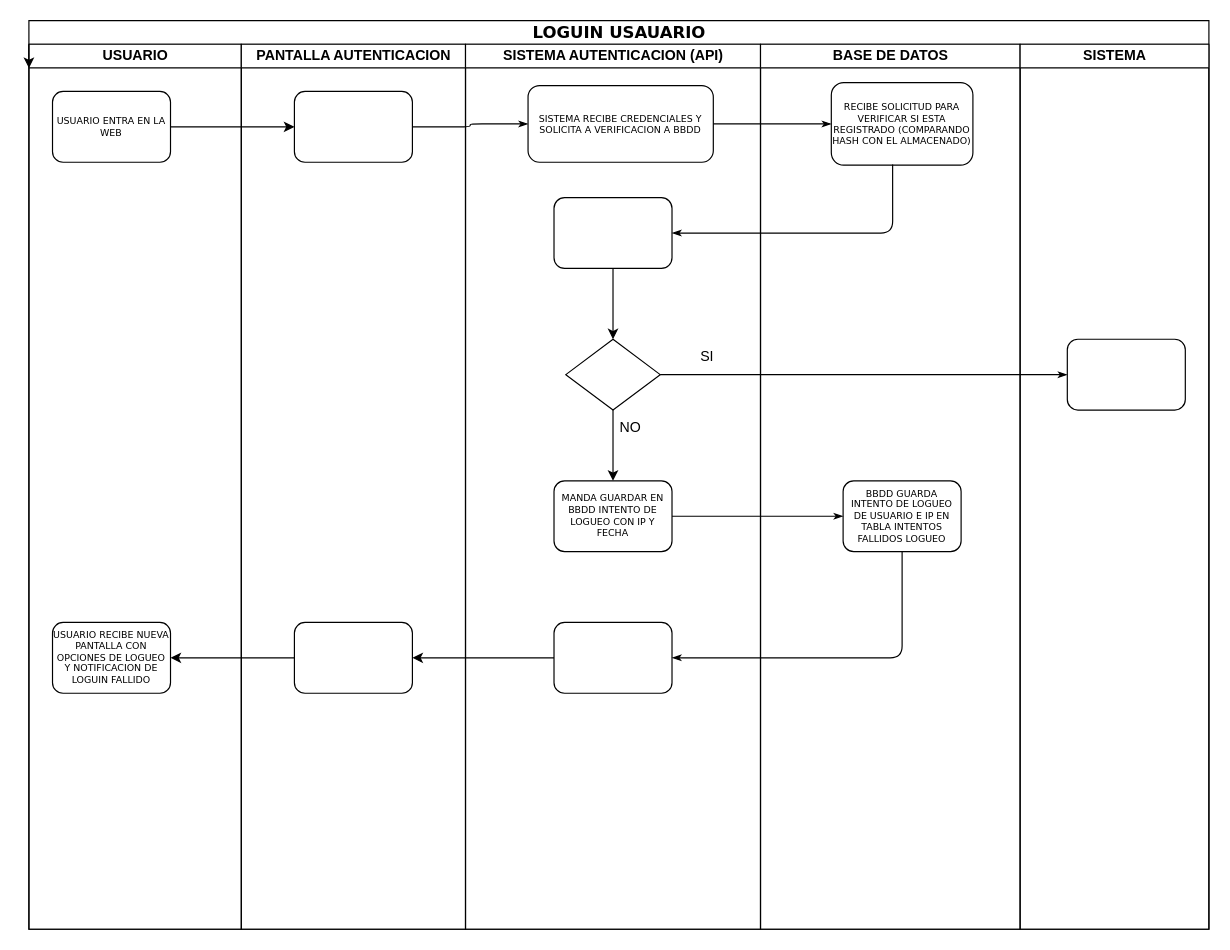
Some shapes in this 1230 by 950 pixel diagram are drawn without their labels. The shapes that lost their labels are listed below. From the top down, each one's centre as x and y in pixels, then its label:
At pixel 352 126: "RELLENA CAMPO DE LOGIN INTRODUCIENDO EMAIL / NICK Y CONTRASEÑA".
At pixel 612 232: "RECIBE RESPUESTA DE VERIFICACIÓN DE LA BBDD".
At pixel 612 374: "LOGUIN CORRECTO".
At pixel 1125 374: "ENTRA ALSISTEMA".
At pixel 352 657: "PRESENTA OPCION DE LOGUEO NUEVO, DE OLVIDO DE CONTRASEÑA Y DE REGISTER".
At pixel 612 657: "RECIBE NOTIFICACIÓN DE GUARDADO".
